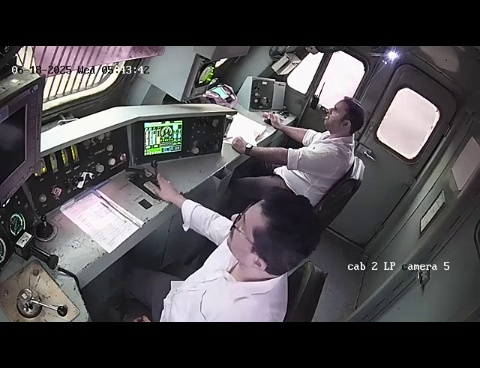brake_released: (1, 257, 111, 322)
horn_inactive: (22, 209, 67, 250)
